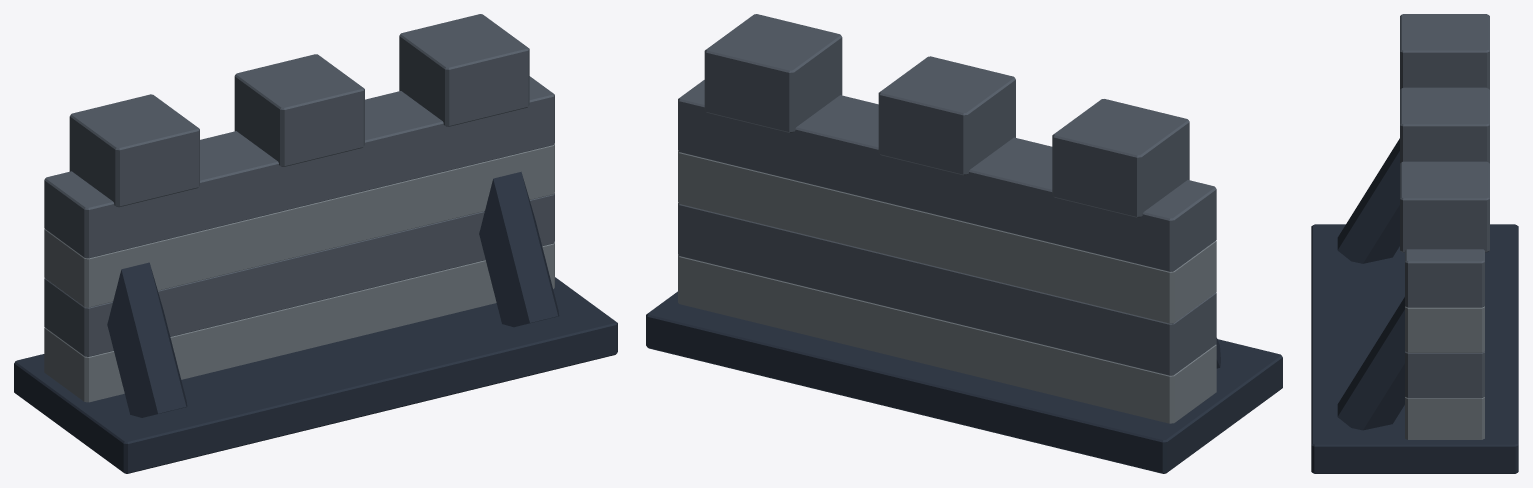
File: battlement-bay.glb
The picture shows the model from 3 angles, left to right: view 1: azimuth 30°, elevation 25°; view 2: azimuth 150°, elevation 25°; view 3: azimuth 270°, elevation 25°; orthographic projection. The views are drawn at different scales.
Visible parts, largest first — view 1: battlement-bay__body; view 2: battlement-bay__body; view 3: battlement-bay__body.
Part boxes in pixels (box(x1,y1,x2,y2)): battlement-bay__body: box(14, 14, 617, 473); battlement-bay__body: box(646, 14, 1282, 473); battlement-bay__body: box(1311, 14, 1518, 473).
Bounding box in the file's own units: 2.1 × 1.14 × 0.83.
